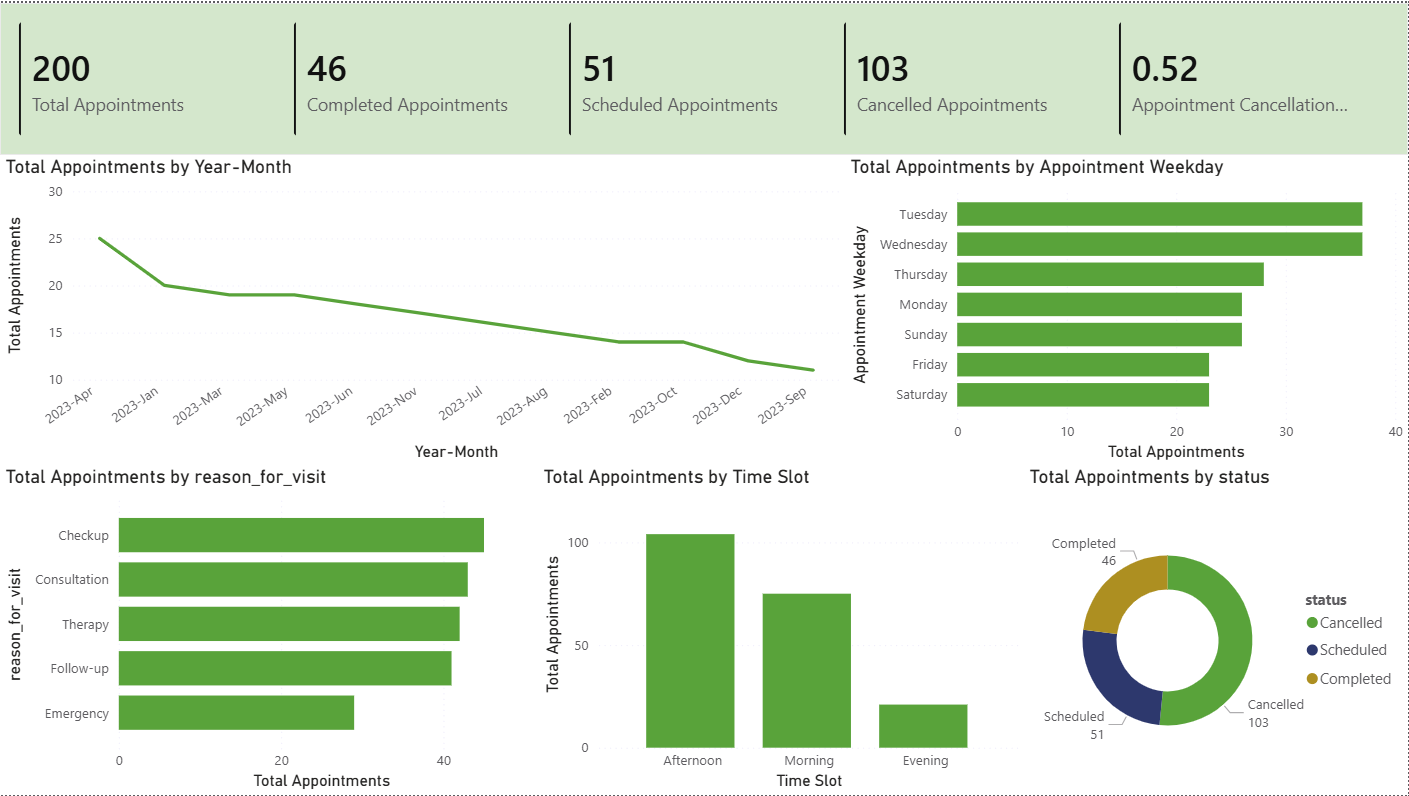

What the dashboard file says about the page in this screenshot:
{"tool":"powerbi","page":{"name":"Appointment Analysis","canvas":[1280,720],"ordinal":3},"visuals":[{"type":"cardVisual","fields":{"Data":["DateTable.Total Appointments","appointments.Completed Appointments","appointments.Scheduled Appointments","appointments.Cancelled Appointments","appointments.Appointment Cancellation Rate"]},"box":[0,0,1280,138.2],"z":0},{"type":"lineChart","fields":{"Category":["DateTable.Year-Month"],"Y":["DateTable.Total Appointments"]},"box":[0,137.8,767.8,282.2],"z":1000},{"type":"barChart","fields":{"Category":["appointments.reason_for_visit"],"Y":["DateTable.Total Appointments"]},"box":[0,420,488.9,300],"z":2000},{"type":"columnChart","fields":{"Category":["appointments.Time Slot"],"Y":["DateTable.Total Appointments"]},"box":[488.9,420,442.2,300],"z":3000},{"type":"barChart","fields":{"Category":["appointments.Appointment Weekday"],"Y":["DateTable.Total Appointments"]},"box":[767.8,137.8,512.2,282.2],"z":4000},{"type":"donutChart","fields":{"Category":["appointments.status"],"Y":["DateTable.Total Appointments"]},"box":[931.1,420,348.9,300],"z":5000}]}

Visuals, with their boxes in screenshot pixels (x1, y1, x2, y2), scaled from the page's 1280x720 canvas onto the 1409x796 screenshot:
cardVisual - DateTable.Total Appointments x appointments.Completed Appointments: crop(0, 0, 1408, 153)
lineChart - DateTable.Year-Month x DateTable.Total Appointments: crop(0, 152, 845, 464)
barChart - appointments.reason_for_visit x DateTable.Total Appointments: crop(0, 464, 538, 795)
columnChart - appointments.Time Slot x DateTable.Total Appointments: crop(538, 464, 1025, 795)
barChart - appointments.Appointment Weekday x DateTable.Total Appointments: crop(845, 152, 1408, 464)
donutChart - appointments.status x DateTable.Total Appointments: crop(1025, 464, 1408, 795)
